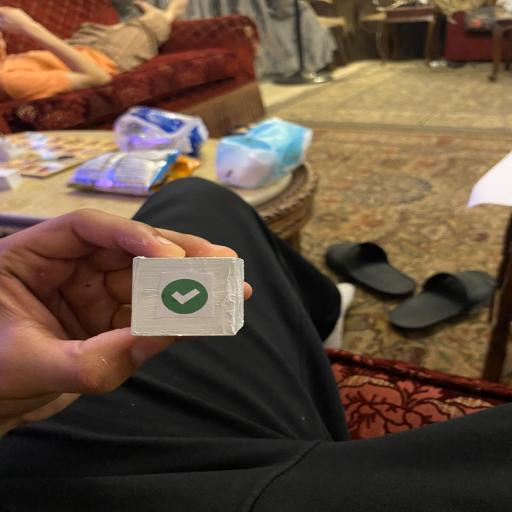Confirm: (129, 254, 245, 337)
